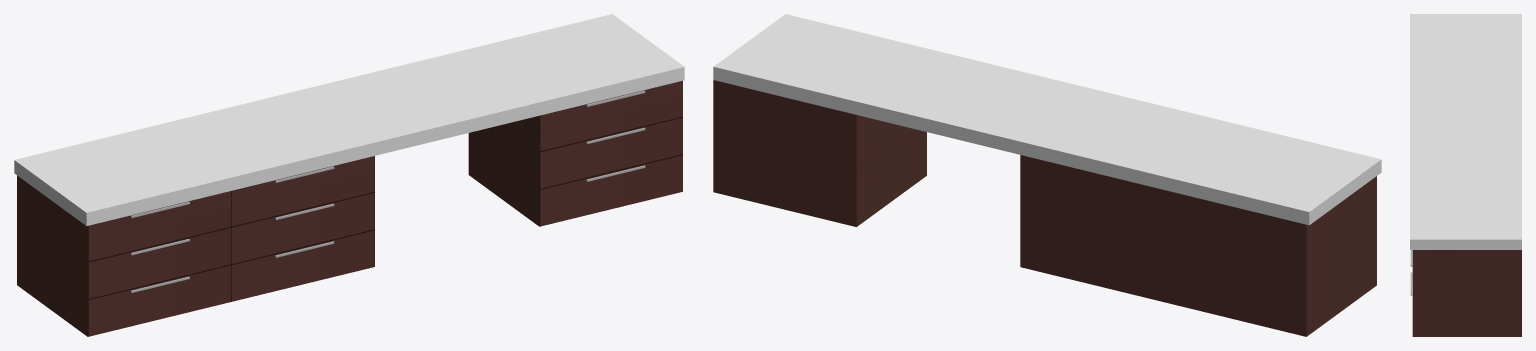
The model's file is office_table_022.glb.
3 views of the same model, side by side, from view 1: azimuth 30°, elevation 25°; view 2: azimuth 150°, elevation 25°; view 3: azimuth 270°, elevation 25° (orthographic). The views are drawn at different scales.
Visible parts, largest first — view 1: office_table_022; view 2: office_table_022; view 3: office_table_022.
Boxes of the visible parts, x1=… form: office_table_022: x1=14, y1=14, x2=684, y2=336; office_table_022: x1=713, y1=14, x2=1381, y2=336; office_table_022: x1=1410, y1=14, x2=1521, y2=336.
Size of the model in its own units: 3.68 by 0.7414 by 0.7721.
1 material, 1 textured.
